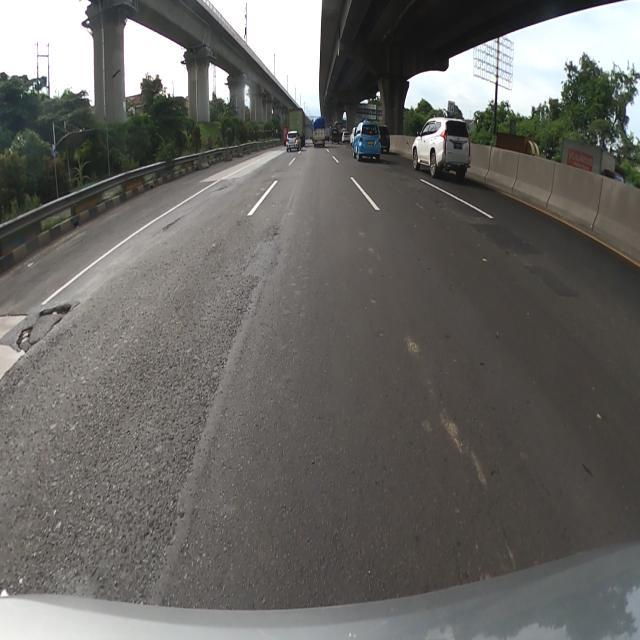Buraco: (37, 302, 74, 318), (15, 325, 35, 351)
